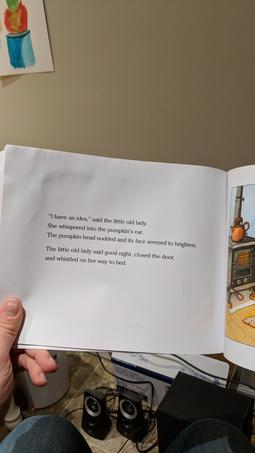text block: (35, 208, 200, 270)
